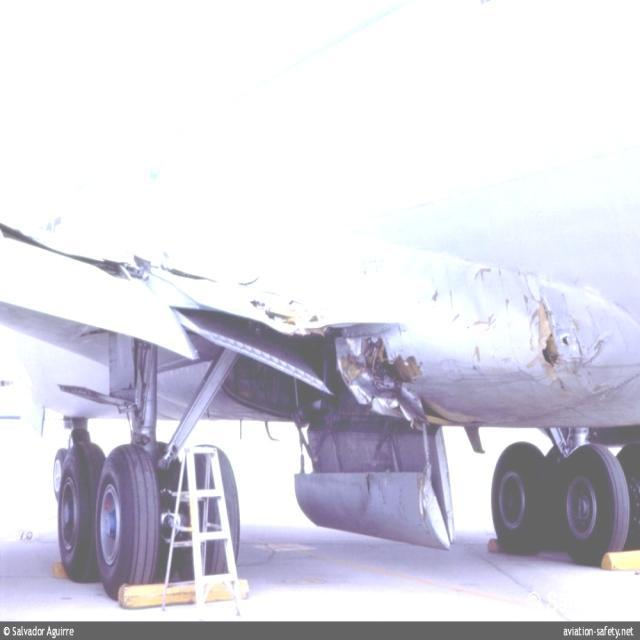dent: (442, 269, 487, 323)
